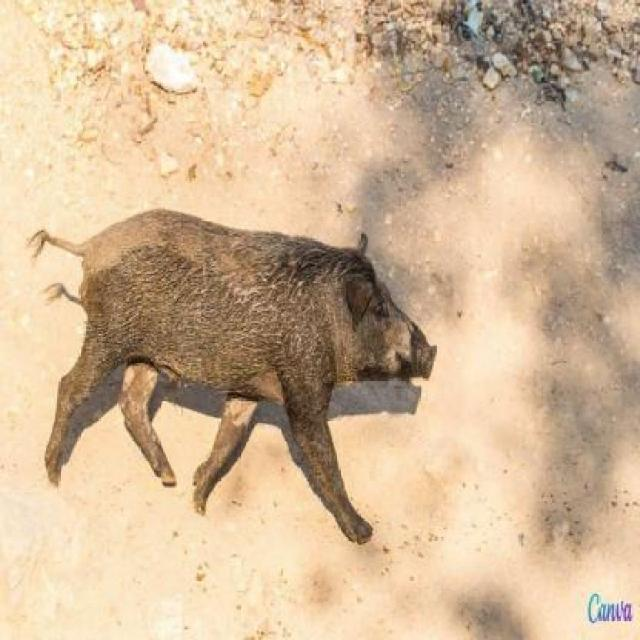wildboar: (23, 201, 443, 550)
